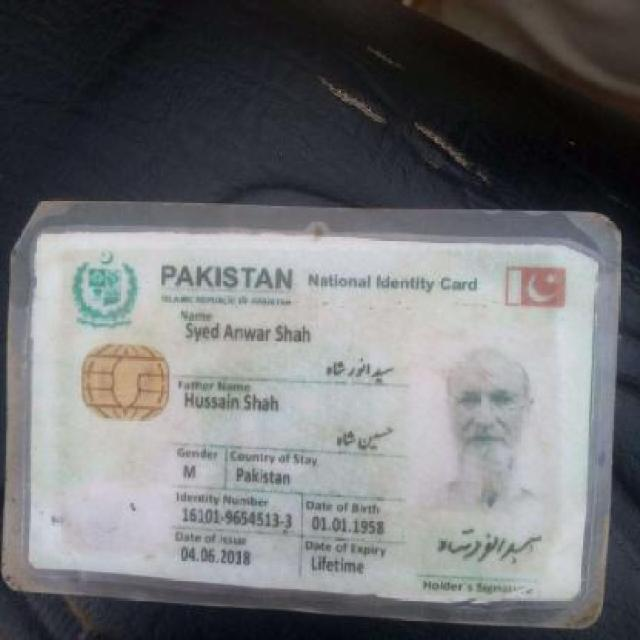Front: (17, 220, 591, 615)
